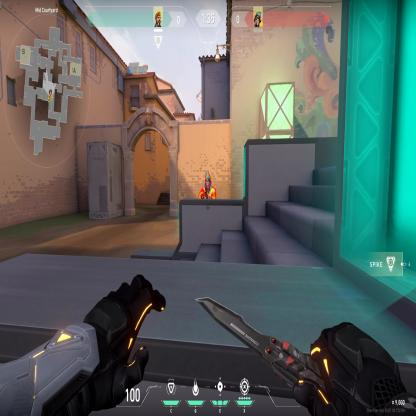enemy: (198, 169, 218, 201)
